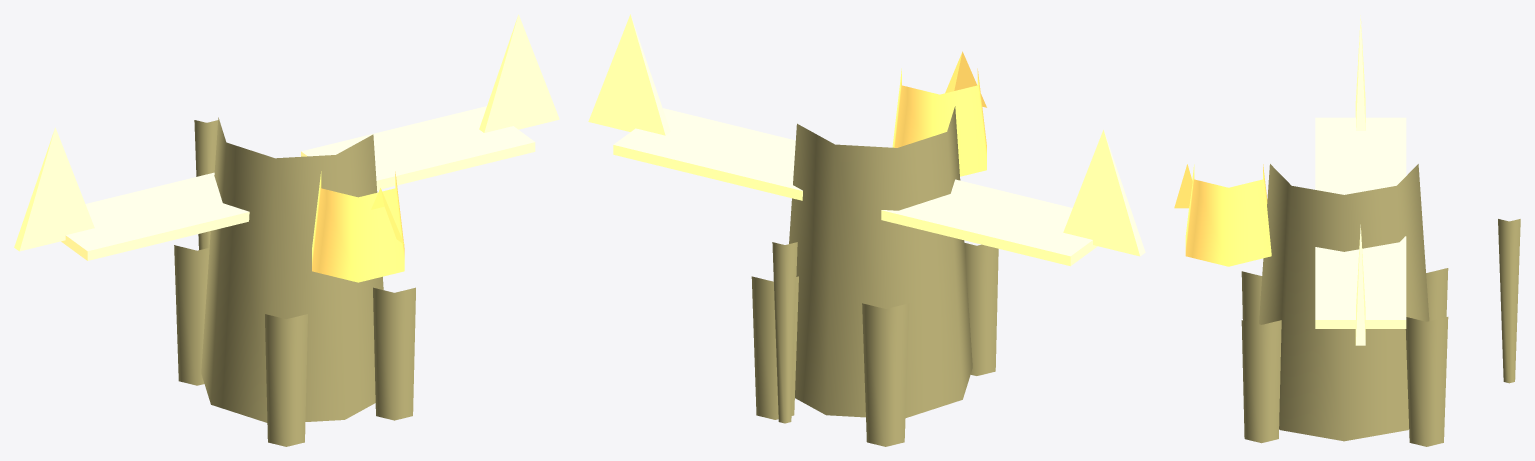
File: solar_gryphon.glb
3 renders of one model, left to right at view 1: azimuth 30°, elevation 25°; view 2: azimuth 150°, elevation 25°; view 3: azimuth 270°, elevation 25°, orthographic. The views are drawn at different scales.
Visible parts, largest first — view 1: RootNode; view 2: RootNode; view 3: RootNode.
Boxes of the visible parts, x1=… form: RootNode: x1=14, y1=14, x2=559, y2=446; RootNode: x1=588, y1=14, x2=1145, y2=446; RootNode: x1=1174, y1=15, x2=1520, y2=446.
Size of the model in its own units: 3.5 by 1.97 by 2.1.
